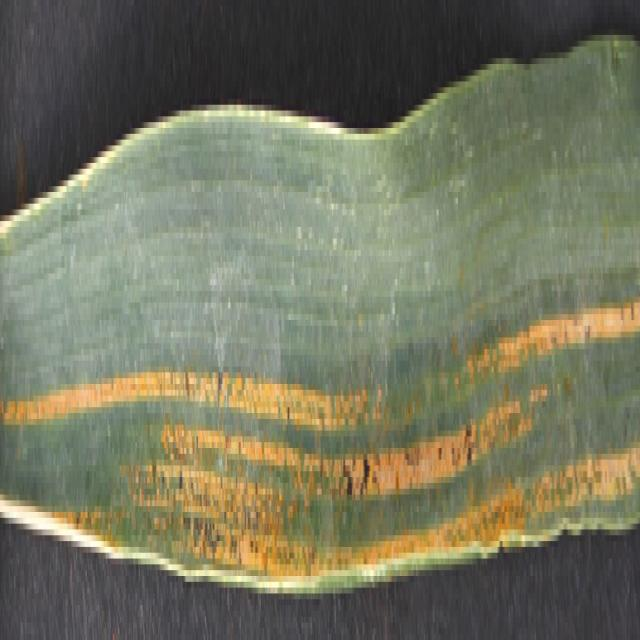leaf rust: (1, 245, 639, 600)
